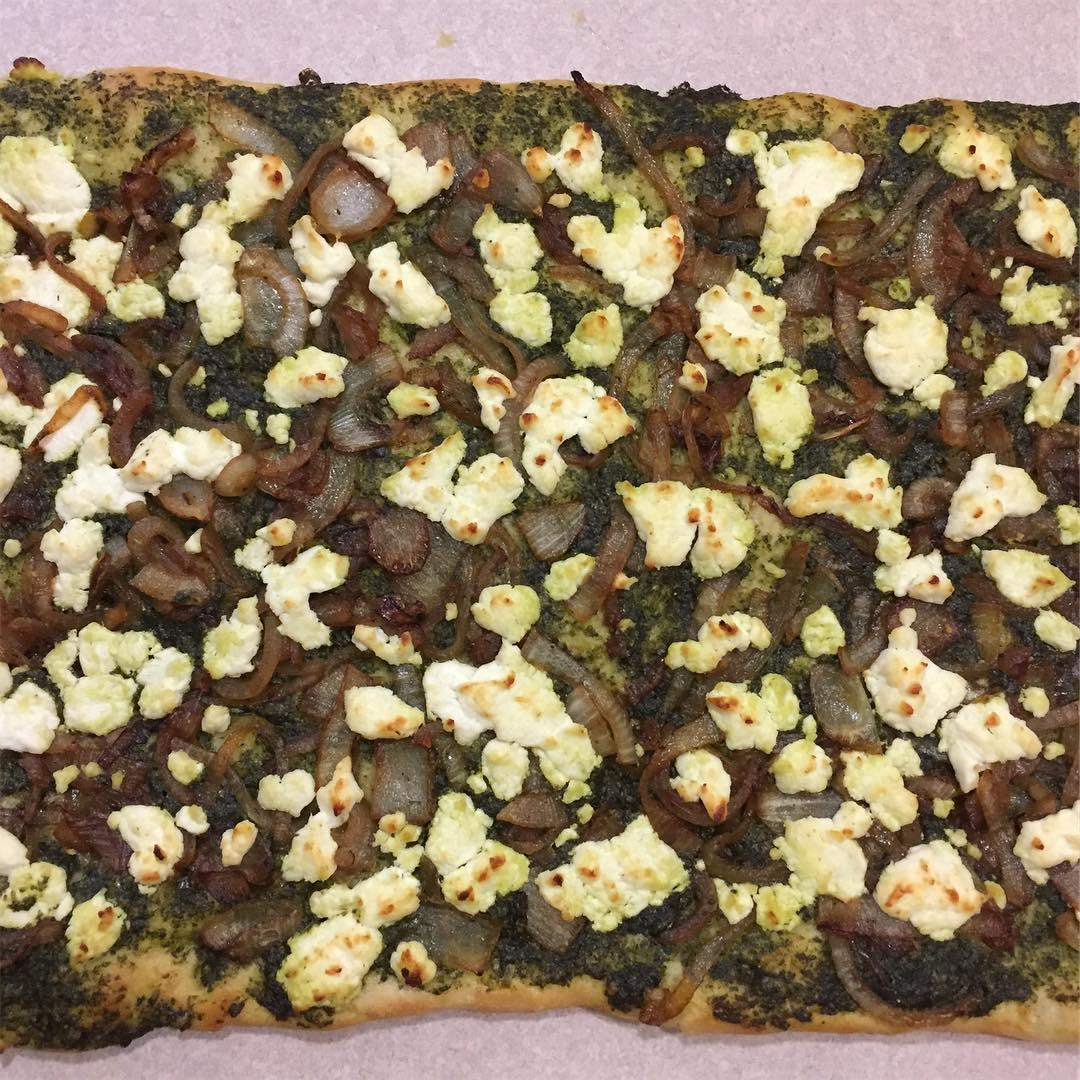Cheese: (0, 633, 180, 744), (0, 139, 86, 304), (59, 431, 216, 513), (441, 675, 553, 776), (349, 109, 456, 213), (255, 549, 353, 642), (181, 188, 240, 337), (741, 365, 829, 460), (781, 461, 896, 532), (399, 455, 504, 532), (933, 701, 1037, 776), (576, 223, 672, 303), (945, 453, 1041, 533), (439, 797, 518, 894), (482, 226, 549, 335), (17, 373, 109, 449), (313, 869, 421, 933), (873, 845, 970, 916), (530, 387, 611, 470), (363, 247, 446, 328), (287, 919, 374, 996), (257, 347, 360, 410), (777, 825, 869, 894), (643, 493, 737, 560), (287, 215, 350, 313), (567, 839, 650, 907), (760, 150, 816, 250), (847, 753, 917, 829), (709, 679, 794, 740), (993, 549, 1072, 614), (933, 135, 1026, 190), (702, 296, 782, 359), (677, 614, 760, 672), (0, 859, 78, 920), (875, 541, 948, 606), (1005, 193, 1073, 261), (1017, 801, 1080, 874), (117, 805, 174, 885), (219, 157, 285, 226), (1001, 277, 1080, 334), (880, 658, 949, 721), (479, 585, 541, 645), (879, 318, 937, 379), (65, 905, 129, 957), (345, 629, 422, 666), (253, 767, 313, 812), (317, 759, 357, 824), (773, 739, 826, 788), (285, 825, 337, 874)
Onion: (22, 752, 125, 865), (114, 123, 182, 276), (649, 879, 714, 1018), (798, 215, 891, 308), (819, 897, 886, 1026), (672, 184, 754, 288), (572, 75, 654, 177), (240, 253, 307, 355), (211, 93, 304, 160), (651, 403, 728, 482), (311, 165, 397, 235), (215, 613, 284, 700), (332, 351, 391, 451), (412, 908, 501, 974), (295, 452, 359, 543), (574, 673, 636, 763), (574, 526, 631, 620), (307, 666, 356, 773), (609, 311, 665, 395), (917, 182, 955, 305), (524, 884, 584, 954), (377, 744, 430, 820), (502, 793, 569, 849), (498, 364, 530, 464), (523, 505, 581, 550)
Pizza: (0, 75, 1080, 1053)
